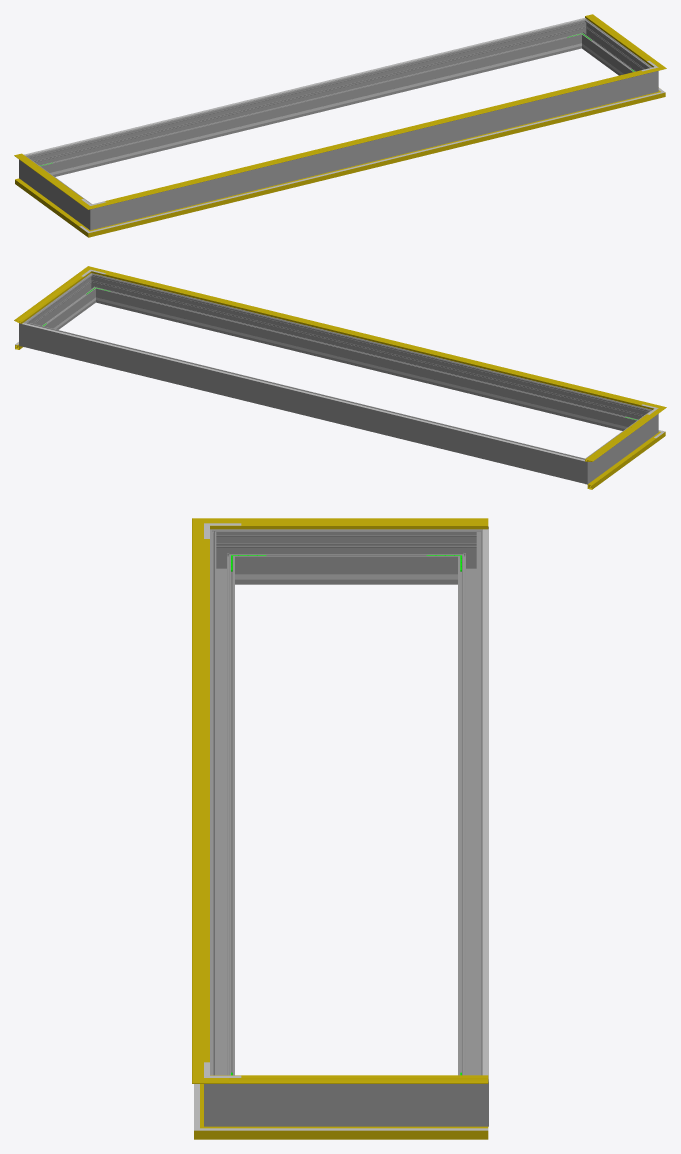
3 views of the same model, one above another, from view 1: azimuth 30°, elevation 25°; view 2: azimuth 150°, elevation 25°; view 3: azimuth 270°, elevation 25° (orthographic). The views are drawn at different scales.
Visible parts, largest first — view 1: 3DGeom-276, 3DGeom-298, 3DGeom-11, 3DGeom-141, 3DGeom-244, 3DGeom-297, 3DGeom-220, 3DGeom-20, 3DGeom-158, 3DGeom-268, 3DGeom-270, 3DGeom-145 (+4 smaller); view 2: 3DGeom-298, 3DGeom-276, 3DGeom-141, 3DGeom-239, 3DGeom-297, 3DGeom-220, 3DGeom-158, 3DGeom-268, 3DGeom-278, 3DGeom-145, 3DGeom-6, 3DGeom-284 (+2 smaller); view 3: 3DGeom-276, 3DGeom-298, 3DGeom-268, 3DGeom-297, 3DGeom-141, 3DGeom-16, 3DGeom-220, 3DGeom-158, 3DGeom-147, 3DGeom-145, 3DGeom-284, 3DGeom-290 (+3 smaller).
Boxes of the visible parts, x1=… form: 3DGeom-276: x1=36, y1=22, x2=579, y2=176; 3DGeom-298: x1=106, y1=74, x2=642, y2=226; 3DGeom-11: x1=102, y1=94, x2=649, y2=233; 3DGeom-141: x1=101, y1=70, x2=650, y2=205; 3DGeom-244: x1=55, y1=47, x2=566, y2=173; 3DGeom-297: x1=583, y1=24, x2=646, y2=75; 3DGeom-220: x1=24, y1=18, x2=585, y2=155; 3DGeom-20: x1=103, y1=95, x2=648, y2=229; 3DGeom-158: x1=105, y1=70, x2=642, y2=201; 3DGeom-268: x1=28, y1=161, x2=85, y2=223; 3DGeom-270: x1=81, y1=200, x2=106, y2=230; 3DGeom-145: x1=585, y1=14, x2=656, y2=64; 3DGeom-298: x1=98, y1=276, x2=641, y2=430; 3DGeom-276: x1=35, y1=325, x2=574, y2=480; 3DGeom-141: x1=99, y1=270, x2=650, y2=408; 3DGeom-239: x1=111, y1=301, x2=621, y2=428; 3DGeom-297: x1=31, y1=278, x2=94, y2=329; 3DGeom-220: x1=22, y1=323, x2=584, y2=461; 3DGeom-158: x1=105, y1=273, x2=642, y2=405; 3DGeom-268: x1=592, y1=415, x2=649, y2=477; 3DGeom-278: x1=571, y1=454, x2=596, y2=484; 3DGeom-145: x1=14, y1=273, x2=86, y2=323; 3DGeom-6: x1=585, y1=437, x2=656, y2=489; 3DGeom-284: x1=19, y1=317, x2=37, y2=349; 3DGeom-276: x1=458, y1=542, x2=482, y2=1075; 3DGeom-298: x1=210, y1=542, x2=234, y2=1075; 3DGeom-268: x1=241, y1=529, x2=451, y2=584; 3DGeom-297: x1=241, y1=1084, x2=451, y2=1126; 3DGeom-141: x1=192, y1=534, x2=203, y2=1067; 3DGeom-16: x1=231, y1=1126, x2=488, y2=1139; 3DGeom-220: x1=483, y1=529, x2=488, y2=1079; 3DGeom-158: x1=204, y1=539, x2=209, y2=1062; 3DGeom-147: x1=229, y1=518, x2=488, y2=529; 3DGeom-145: x1=229, y1=1075, x2=488, y2=1083; 3DGeom-284: x1=452, y1=1066, x2=488, y2=1126; 3DGeom-290: x1=204, y1=1066, x2=240, y2=1126.
Bounding box in the file's own units: 5.49 × 0.2596 × 1.22.
